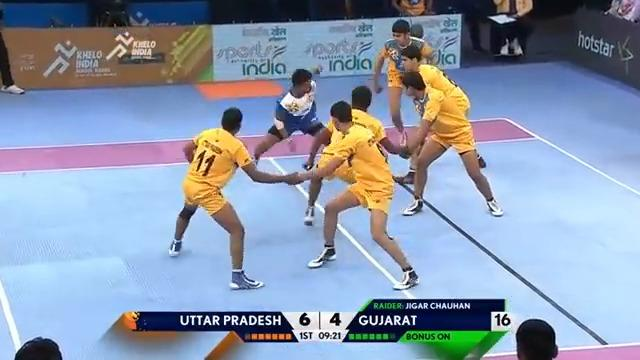Player: (165, 104, 312, 291), (301, 96, 420, 291), (396, 69, 504, 217), (399, 45, 487, 171), (372, 26, 433, 125)
Raider: (258, 68, 336, 167)
referee: (488, 0, 533, 58), (0, 0, 25, 94), (13, 336, 62, 359)
